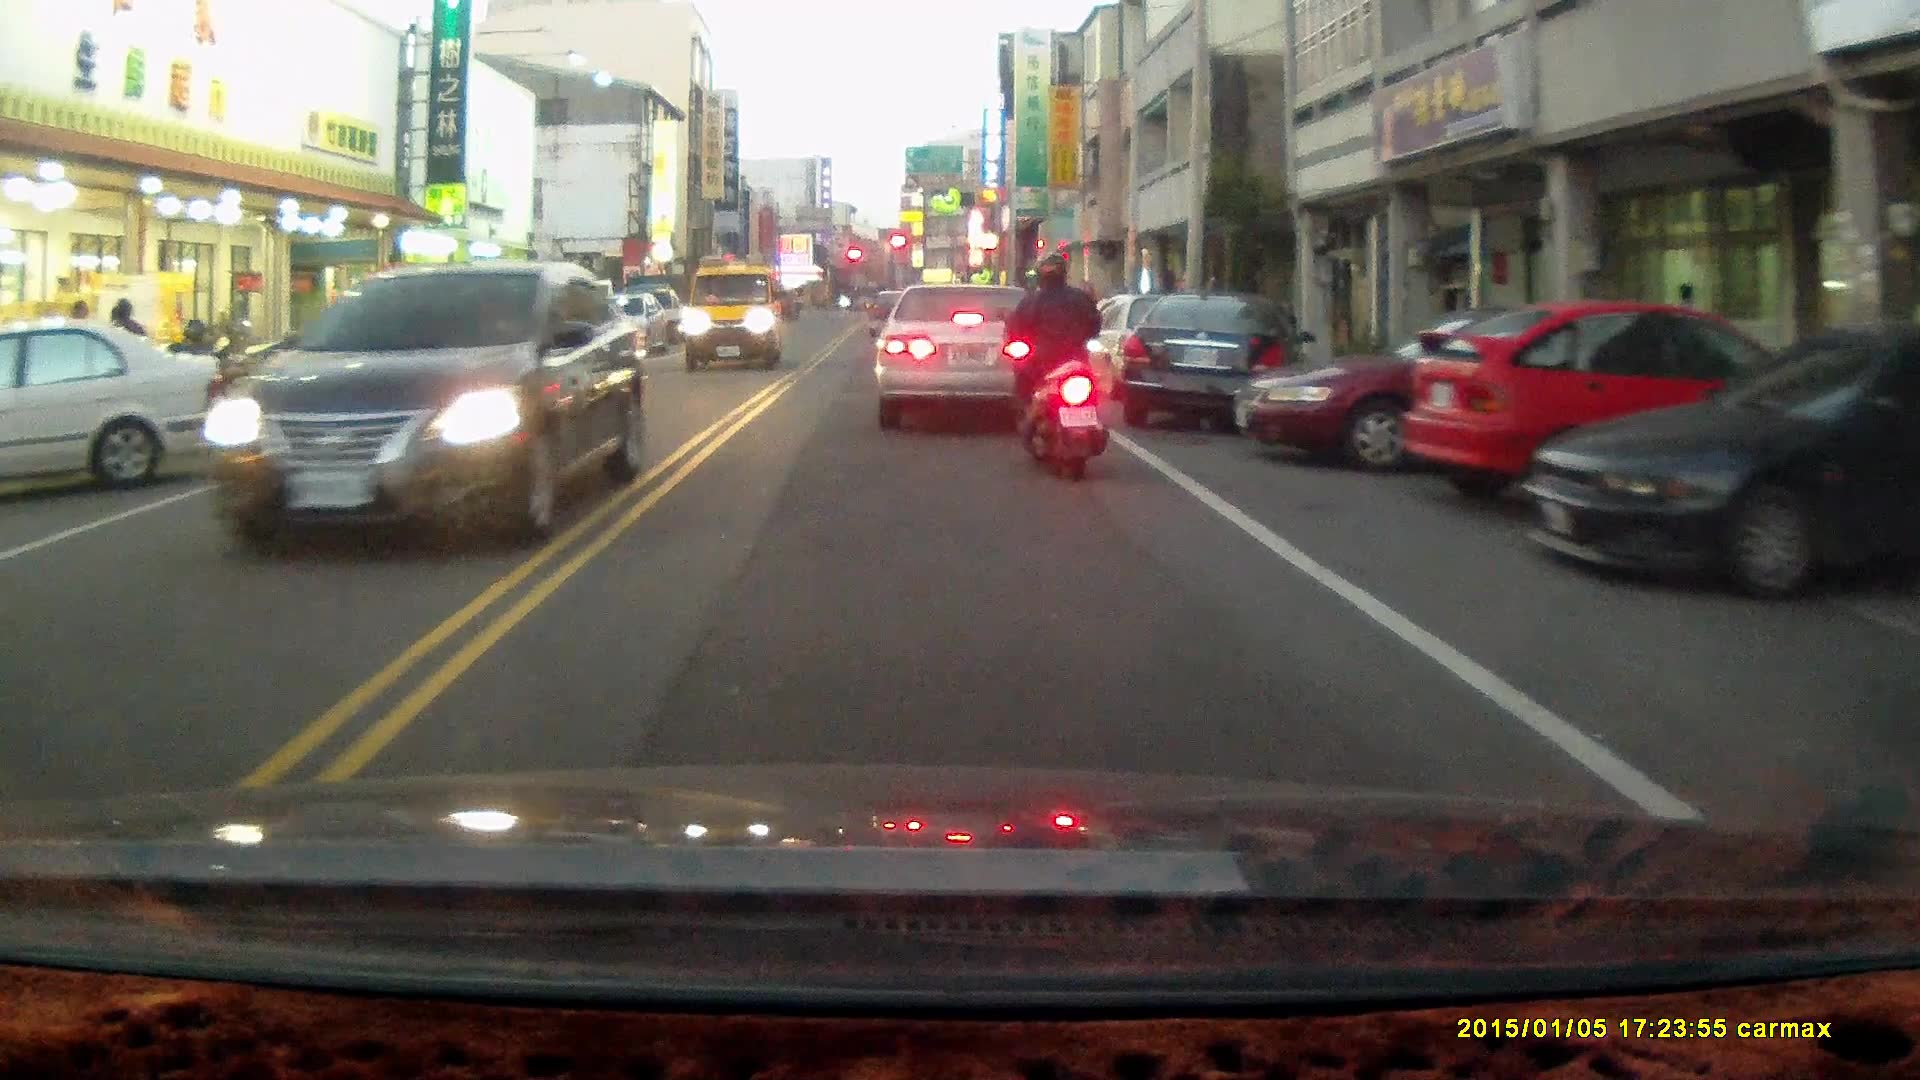rider: (995, 251, 1116, 483)
vehicle: (207, 258, 650, 549), (1516, 326, 1920, 603), (1401, 302, 1809, 523), (1231, 309, 1680, 475), (1, 316, 220, 505), (871, 281, 1050, 423), (1109, 294, 1290, 432), (680, 264, 781, 372)
